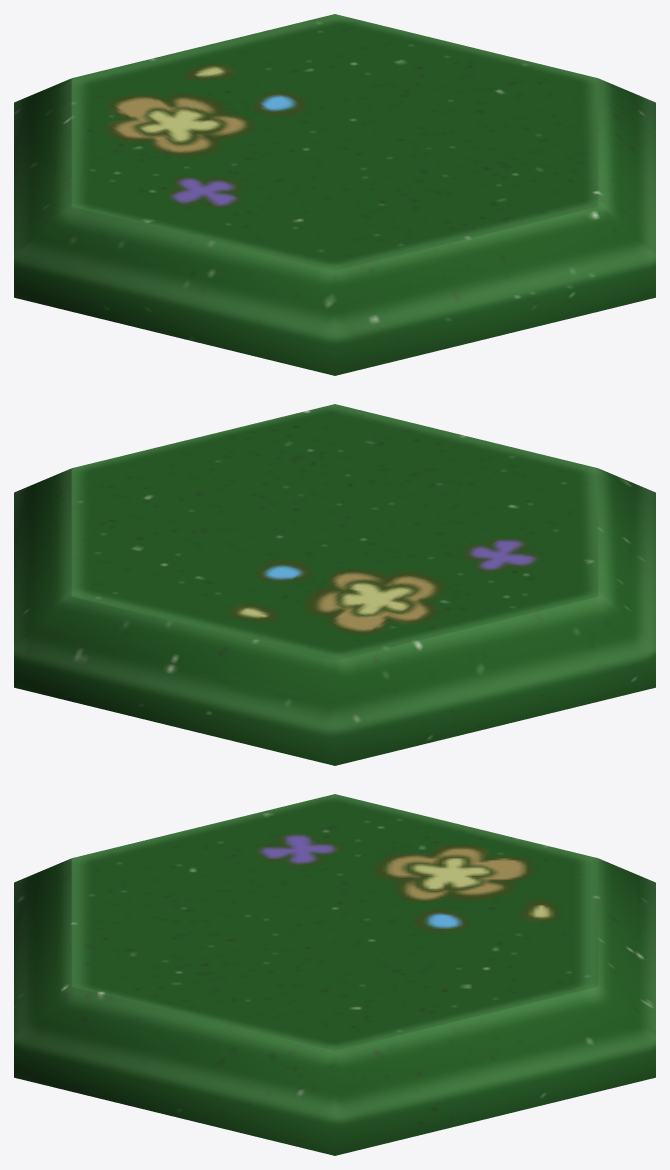
The picture shows the model from 3 angles, top to bottom: view 1: azimuth 30°, elevation 25°; view 2: azimuth 150°, elevation 25°; view 3: azimuth 270°, elevation 25°; orthographic projection.
Parts seen in each view (by area): view 1: Cylinder017; view 2: Cylinder017; view 3: Cylinder017.
Part boxes in pixels (x1,y1,x2,y2): Cylinder017: (14, 14, 655, 375); Cylinder017: (14, 404, 655, 765); Cylinder017: (14, 794, 655, 1155).
Bounding box in the file's own units: 130 × 14.92 × 113.
Materials: 1 (1 with a texture image).
